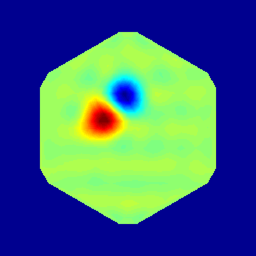ship: (113, 86, 135, 110)
wave: (93, 101, 122, 126)
